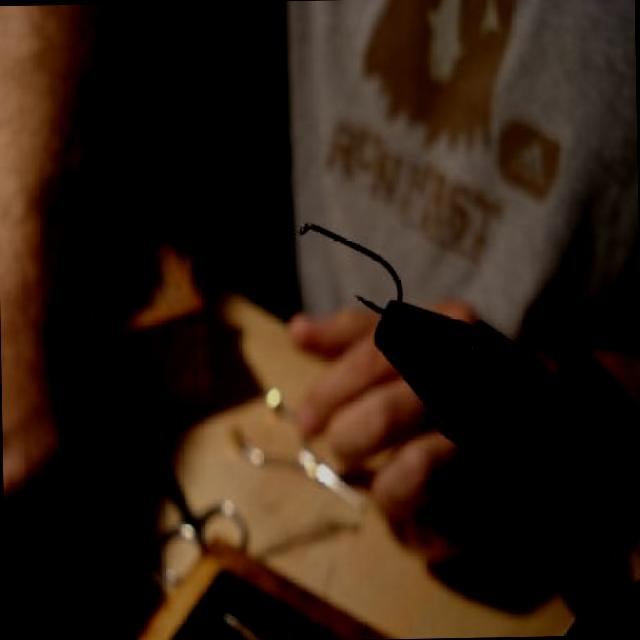Person: (291, 145, 640, 637)
